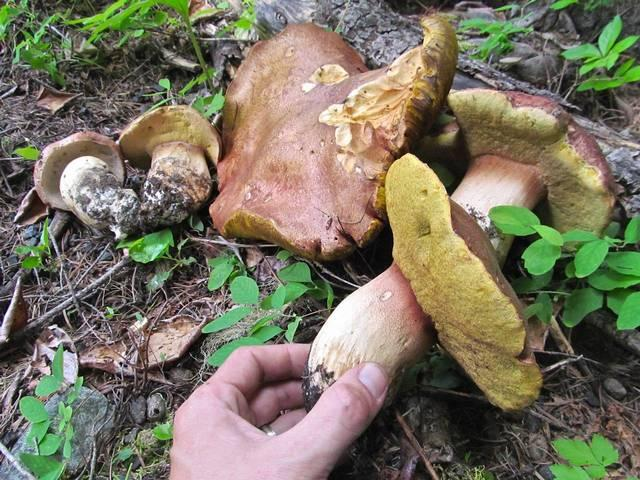Edible Mushroom: (300, 85, 617, 416), (207, 12, 459, 262), (13, 129, 140, 251), (116, 103, 222, 229)
